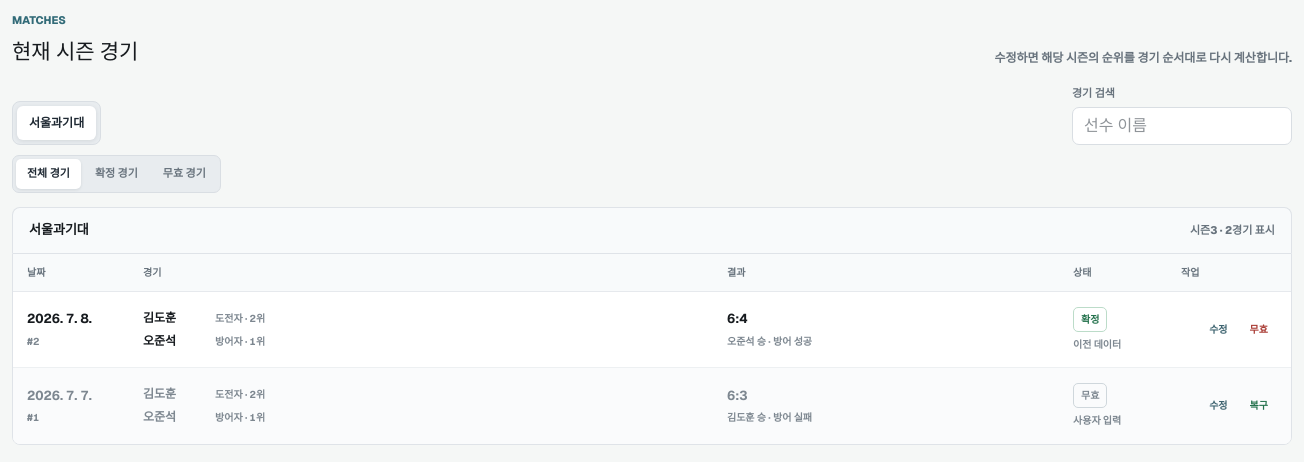
Test: AdminMatchManager › shows all matches and filters voided records
Expected: the text "2026. 7. 8." is shown, [27,310,92,327]
Expected: the text "2026. 7. 7." is shown, [27,387,92,404]
Click the button "무효 경기" at [184, 174], box [152,158,217,188]
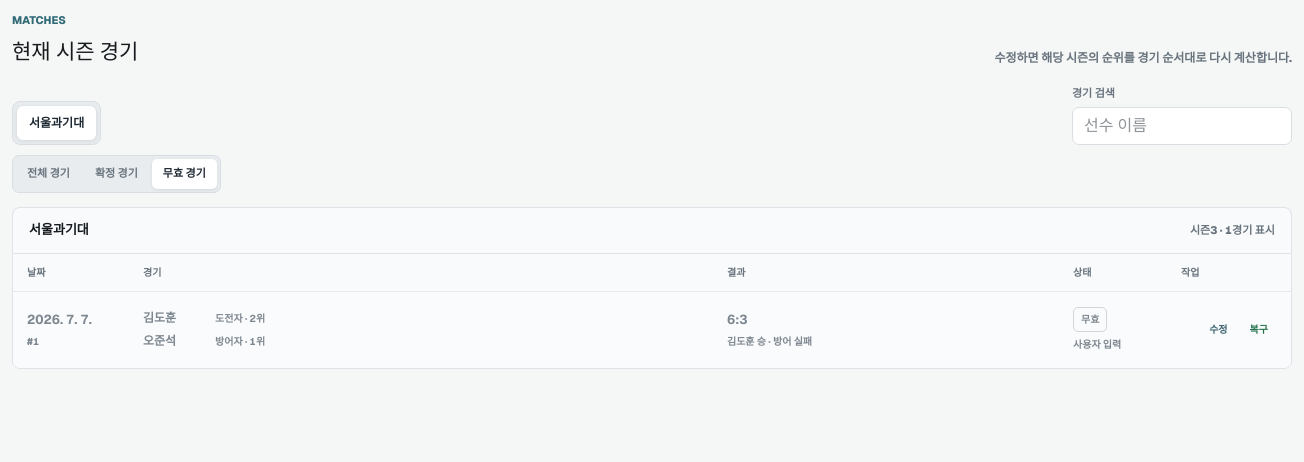
Expected: the text "2026. 7. 7." is shown, [27,311,92,328]
Now the text "2026. 7. 8." is gone
